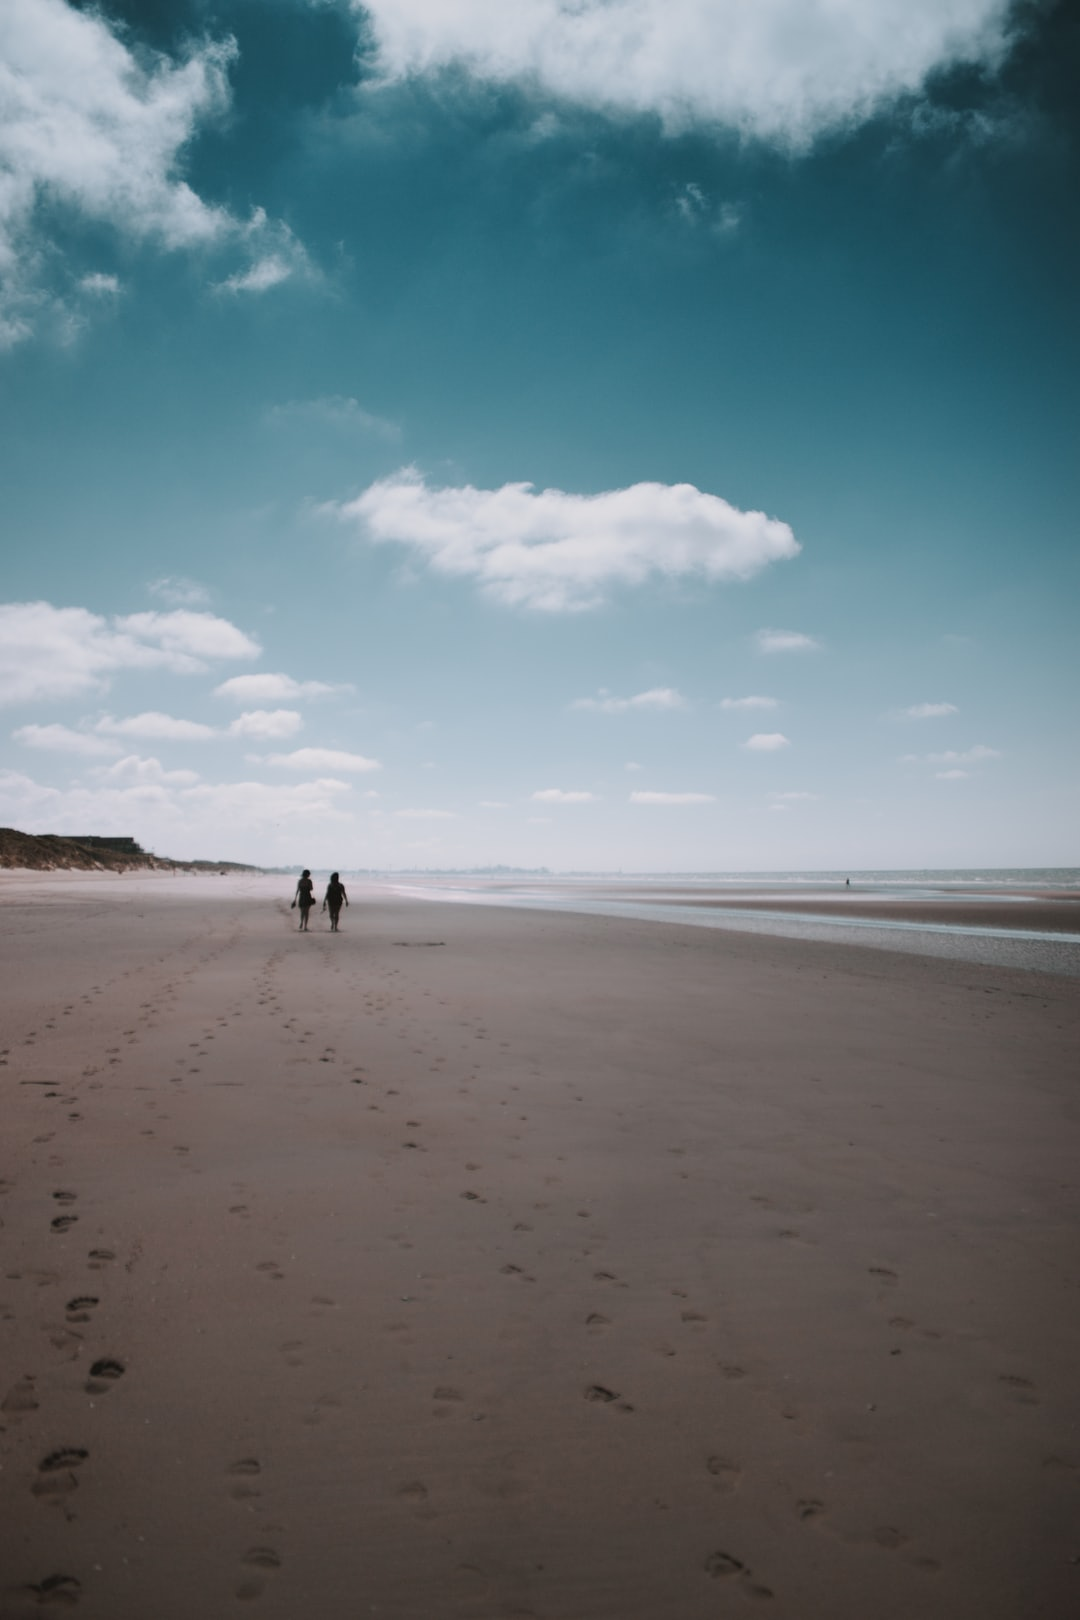cloud: (340, 470, 805, 629)
person: (326, 868, 359, 943), (291, 866, 317, 933)
